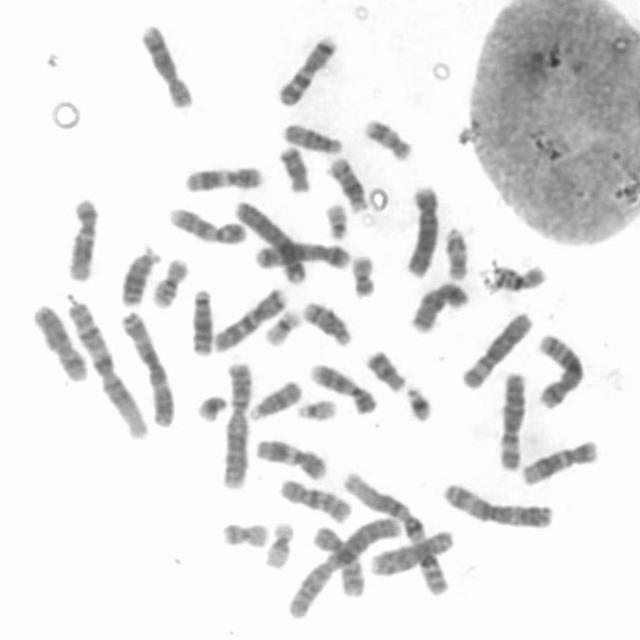A1: (342, 472, 451, 598), (63, 301, 148, 440)
A2: (284, 516, 404, 622), (220, 358, 253, 492)
A3: (120, 310, 176, 427), (444, 480, 554, 530)
B4: (230, 199, 310, 285), (402, 184, 441, 278)
B5: (537, 331, 585, 411), (252, 242, 352, 270)
C10: (312, 526, 366, 600), (280, 476, 352, 526)
C11: (256, 436, 328, 480), (182, 164, 264, 194)
C12: (521, 438, 602, 487), (65, 196, 102, 285)
C6: (460, 310, 535, 391), (498, 370, 528, 474)
C7: (212, 288, 290, 353), (276, 34, 338, 110)
C8: (142, 21, 196, 110), (368, 527, 458, 576)
C9: (308, 361, 376, 416), (165, 206, 248, 245)
D13: (119, 244, 161, 308), (188, 290, 212, 356)
D14: (324, 157, 369, 213), (302, 299, 352, 348)
D15: (248, 378, 304, 421), (284, 122, 342, 156)
E16: (150, 258, 192, 307), (491, 264, 549, 295)
E17: (360, 115, 416, 165), (444, 224, 469, 282)
E18: (363, 348, 408, 394), (276, 144, 312, 194)
F19: (262, 520, 296, 571), (264, 307, 302, 348)
F20: (218, 521, 270, 549), (350, 253, 376, 301)
G21: (406, 382, 436, 426), (194, 394, 227, 424)
G22: (296, 398, 338, 423), (324, 202, 349, 239)
X: (29, 304, 89, 384), (406, 281, 472, 335)
